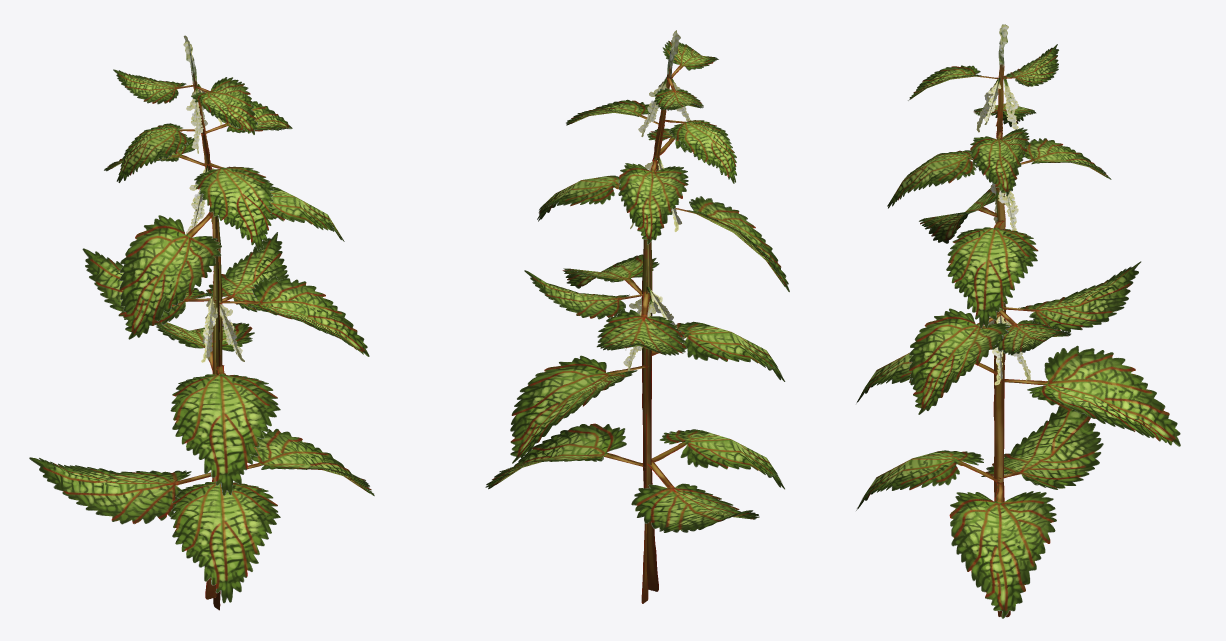
Rendered from colour plant.fbx.
3 renders of one model, left to right at view 1: azimuth 30°, elevation 25°; view 2: azimuth 150°, elevation 25°; view 3: azimuth 270°, elevation 25°, orthographic.
Visible parts, largest first — view 1: weed_plant1; view 2: weed_plant1; view 3: weed_plant1.
Part boxes in pixels (bbox=[...]): weed_plant1: bbox=[29, 35, 374, 610]; weed_plant1: bbox=[485, 30, 789, 603]; weed_plant1: bbox=[856, 24, 1180, 618].
Size of the model in its own units: 25 by 40.52 by 23.29.
1 material, 1 textured.
